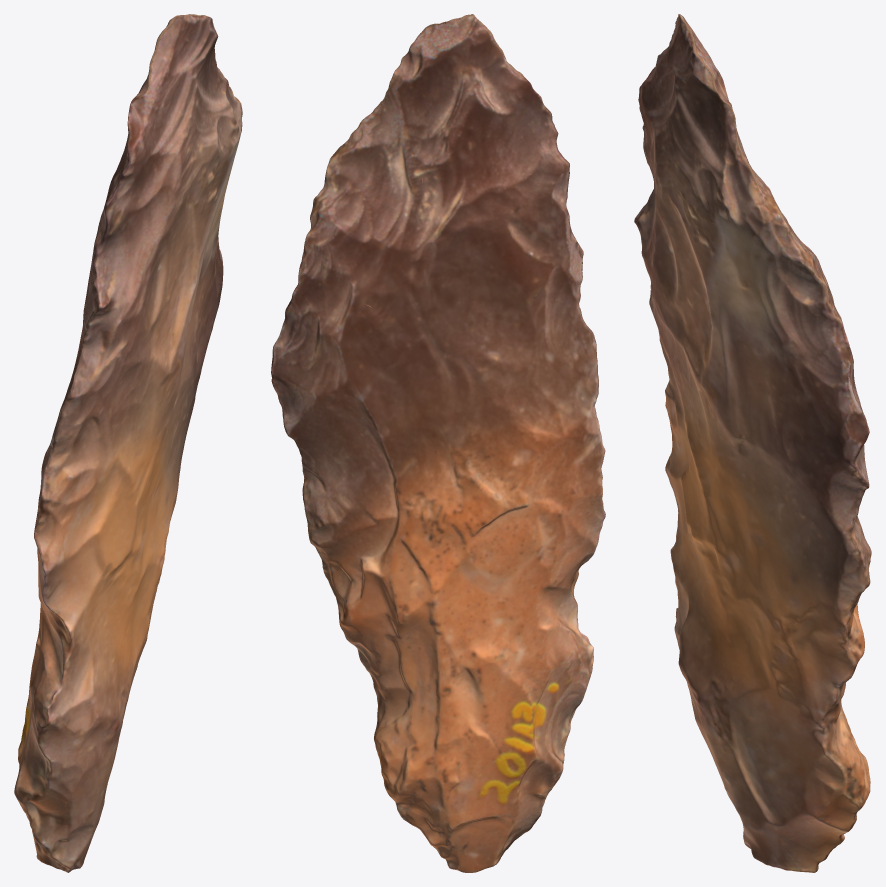
The picture shows the model from 3 angles, left to right: view 1: azimuth 30°, elevation 25°; view 2: azimuth 150°, elevation 25°; view 3: azimuth 270°, elevation 25°; orthographic projection. The views are drawn at different scales.
Visible parts, largest first — view 1: Node; view 2: Node; view 3: Node.
Boxes of the visible parts, x1,y1,x2,y2 form: Node: [14, 14, 242, 872]; Node: [271, 14, 605, 872]; Node: [634, 14, 871, 872].
Bounding box in the file's own units: 27.29 × 83.7 × 20.44.
Materials: 1 (1 with a texture image).
